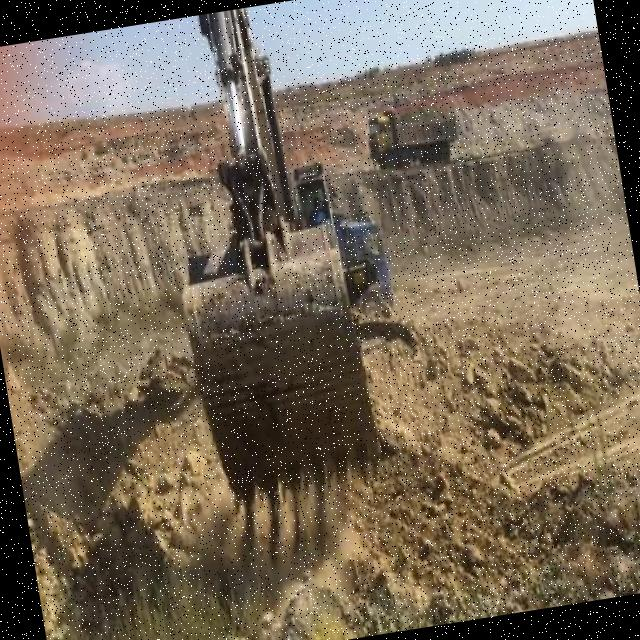Dump Truck: (364, 93, 464, 173)
Excavator: (129, 0, 414, 521)
